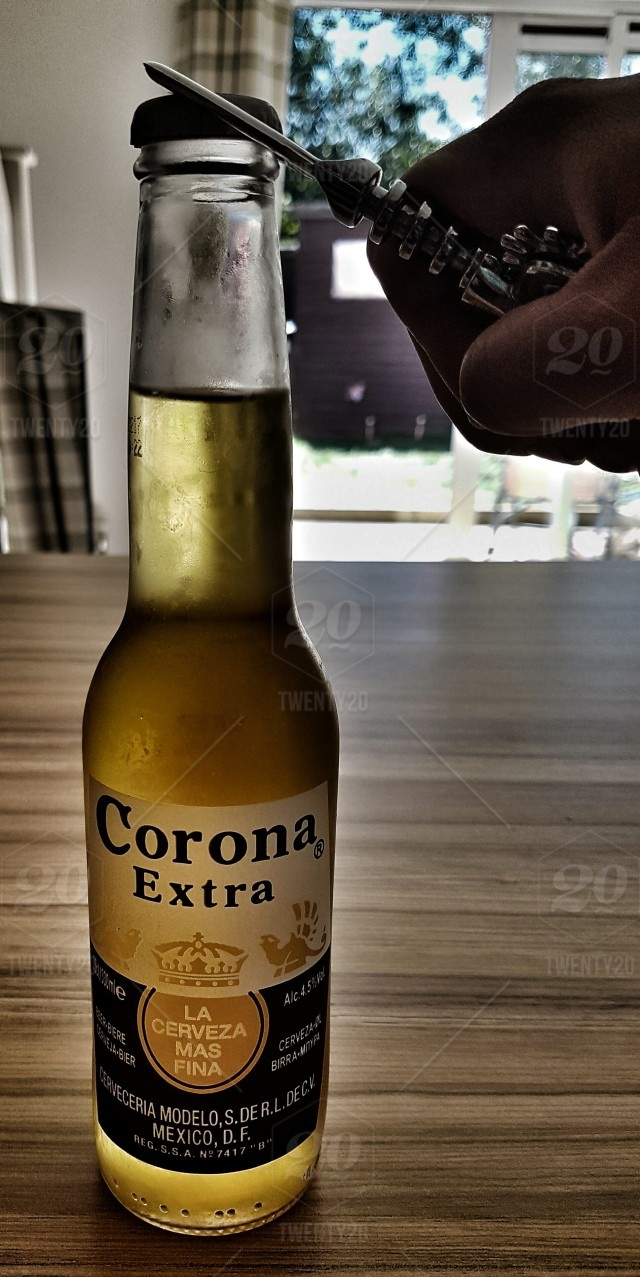beerBottle: (87, 101, 332, 1232)
